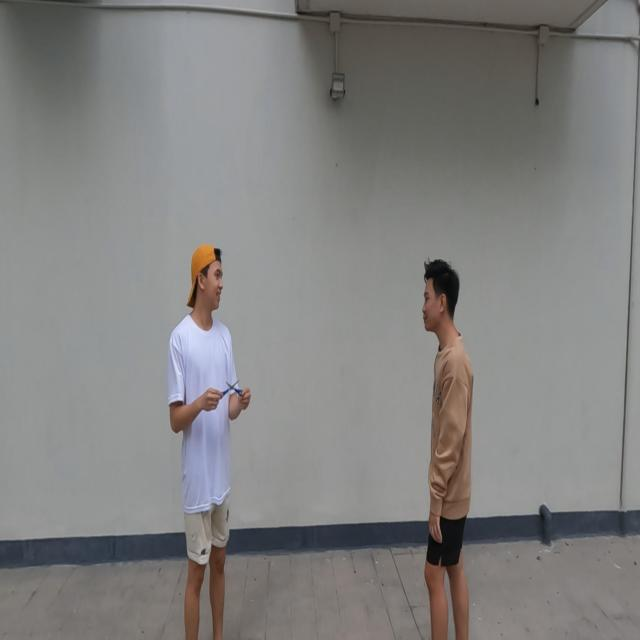scissor: (217, 378, 245, 401)
